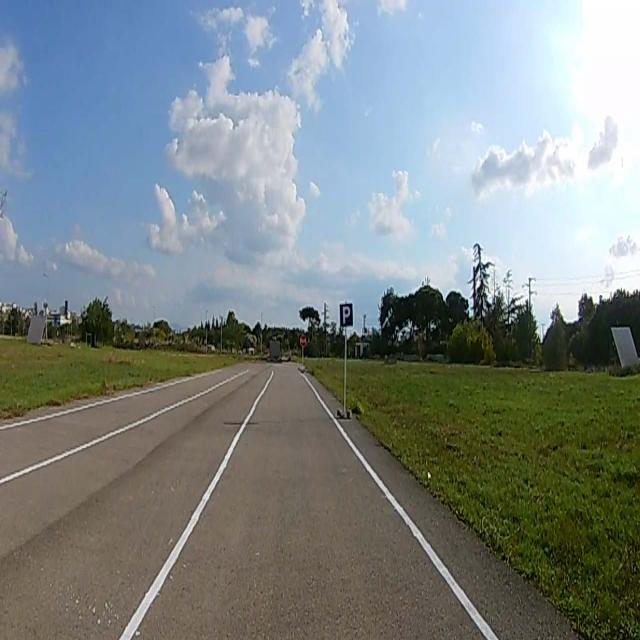park: (340, 304, 352, 326)
